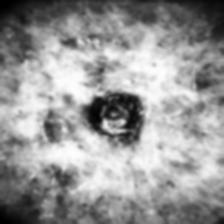Potentially Malignant Skin Tumors: (62, 74, 160, 152)
